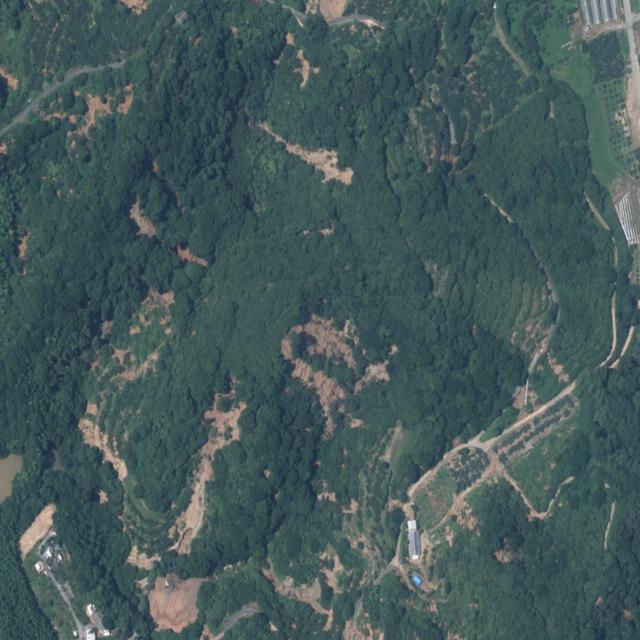landslide: (170, 388, 246, 556), (280, 315, 356, 436), (258, 122, 353, 185), (148, 575, 203, 634), (353, 364, 387, 392)
